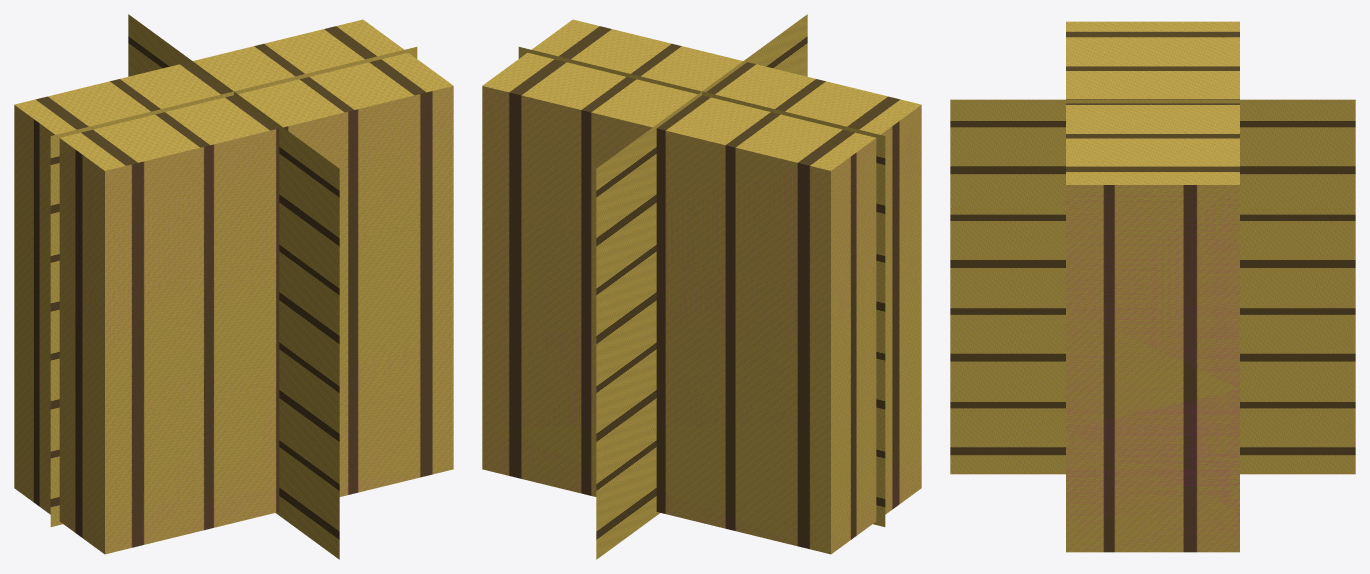
File: haybale_stack_3.dae
The picture shows the model from 3 angles, left to right: view 1: azimuth 30°, elevation 25°; view 2: azimuth 150°, elevation 25°; view 3: azimuth 270°, elevation 25°; orthographic projection. The views are drawn at different scales.
Visible parts, largest first — view 1: haybale_stack_3_a800, haybale_stack_3_a50, haybale_stack_3_a200; view 2: haybale_stack_3_a800, haybale_stack_3_a50, haybale_stack_3_a200; view 3: haybale_stack_3_a800, haybale_stack_3_a50, haybale_stack_3_a200.
Part boxes in pixels (<box>): haybale_stack_3_a800: <box>14,19,453,554</box>; haybale_stack_3_a50: <box>50,14,417,559</box>; haybale_stack_3_a200: <box>14,214,453,510</box>; haybale_stack_3_a800: <box>482,19,921,554</box>; haybale_stack_3_a50: <box>518,14,885,559</box>; haybale_stack_3_a200: <box>483,426,916,553</box>; haybale_stack_3_a800: <box>1066,21,1239,552</box>; haybale_stack_3_a50: <box>950,99,1355,474</box>; haybale_stack_3_a200: <box>1066,308,1239,550</box>.
Bounding box in the file's own units: 1.05 × 1.05 × 1.07.
2 materials, 1 textured.
